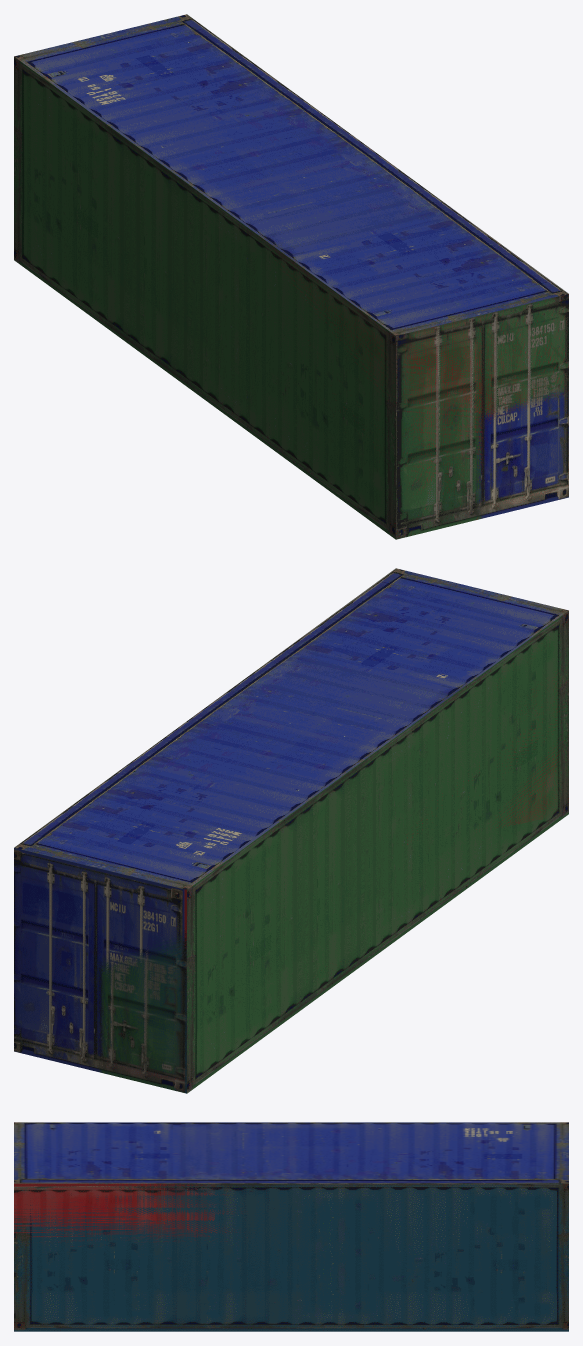
File: containers.glb
The picture shows the model from 3 angles, top to bottom: view 1: azimuth 30°, elevation 25°; view 2: azimuth 150°, elevation 25°; view 3: azimuth 270°, elevation 25°; orthographic projection. The views are drawn at different scales.
Parts seen in each view (by area): view 1: green, blue, red; view 2: blue, green, sky, red; view 3: sky, blue, red.
Part boxes in pixels (bbox=[...]): green: bbox=[14, 57, 568, 539]; blue: bbox=[14, 14, 568, 518]; red: bbox=[37, 234, 568, 535]; blue: bbox=[14, 568, 568, 1072]; green: bbox=[95, 611, 568, 1093]; sky: bbox=[94, 931, 186, 1092]; red: bbox=[165, 620, 568, 975]; sky: bbox=[14, 1183, 568, 1331]; blue: bbox=[14, 1122, 568, 1183]; red: bbox=[14, 1183, 247, 1246].
Size of the model in its own units: 3.54 by 3.99 by 13.54.
Materials: 1 (1 with a texture image).
